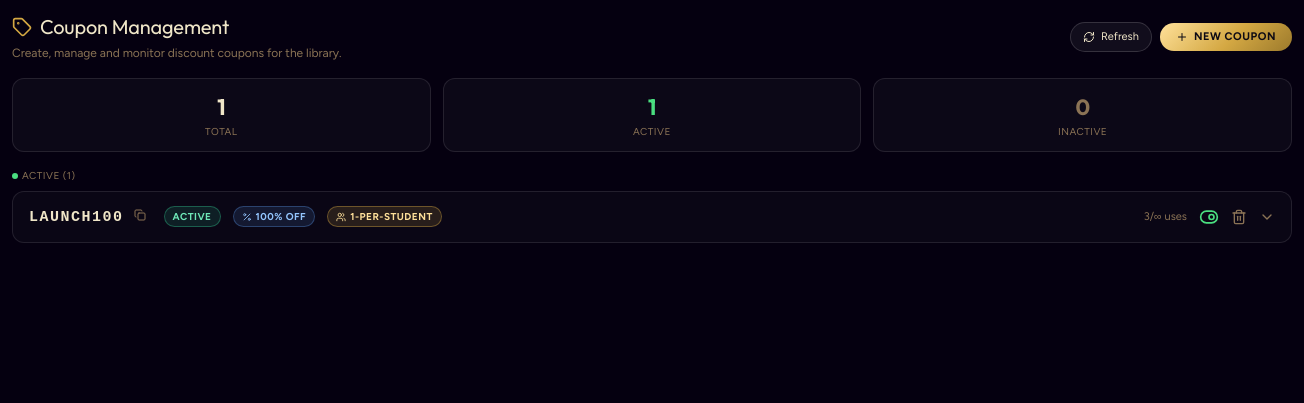
Test: an existing promotion-limited coupon shows a 1-per-student badge and its promotion id in the expanded row
Expected: the element with test id "coupon-promotion-badge-LAUNCH100" is shown, [327,206,442,227]
# Expand the row to see the full promotion id.
Click the button with test id "coupon-expand-LAUNCH100".
click(1267, 217)  # box [1259,209,1275,225]
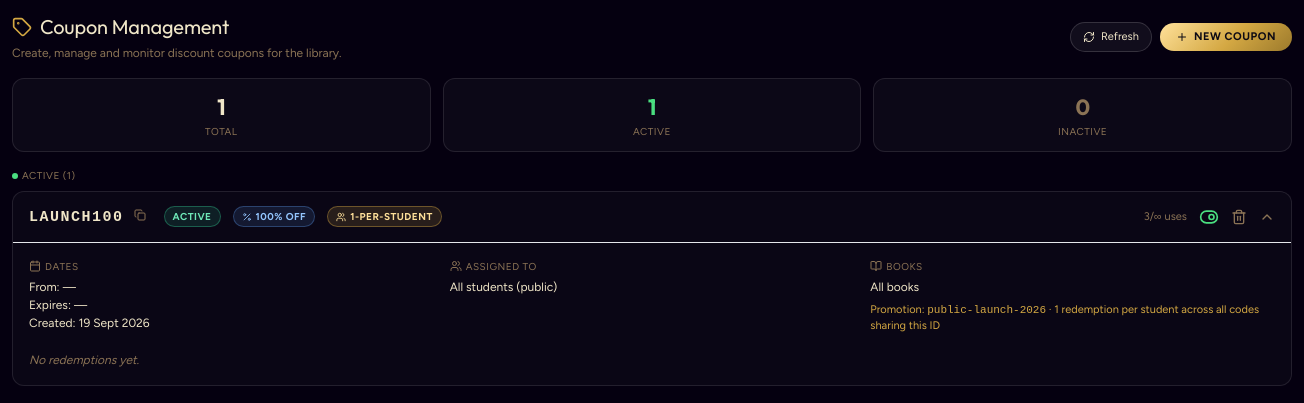
Now the element with test id "coupon-promotion-id-LAUNCH100" shows "public-launch-2026", box [927,304,1046,316]
